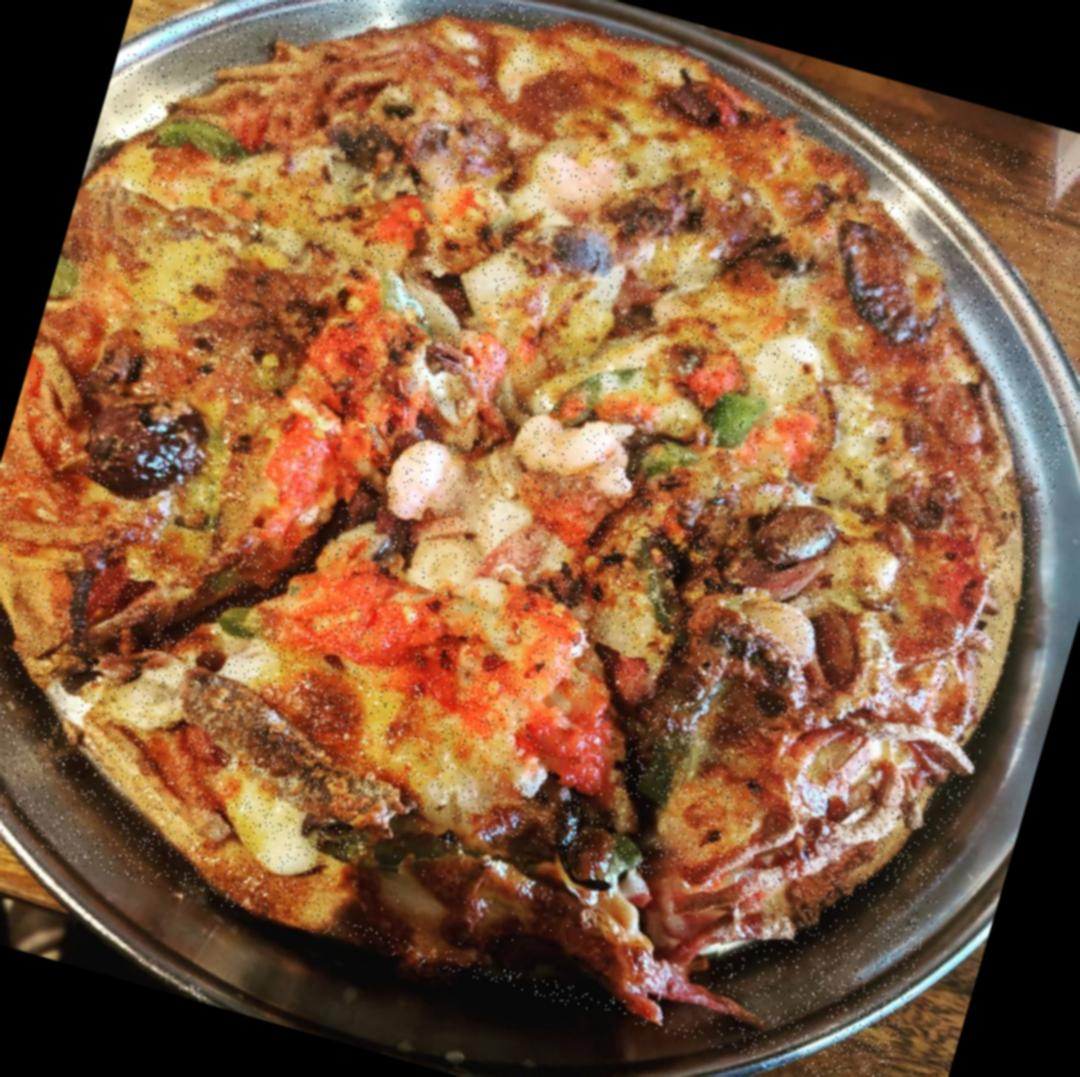Ham: (328, 794, 734, 1022), (734, 680, 911, 929), (60, 371, 215, 514), (811, 218, 954, 368), (288, 38, 398, 138)
Mushroom: (726, 478, 852, 594)
Pizza: (0, 0, 1080, 1077)
Tomatoes: (274, 539, 471, 694), (249, 372, 374, 545), (510, 679, 638, 810), (300, 282, 416, 396), (742, 396, 826, 480), (661, 344, 750, 410), (374, 189, 435, 248)
